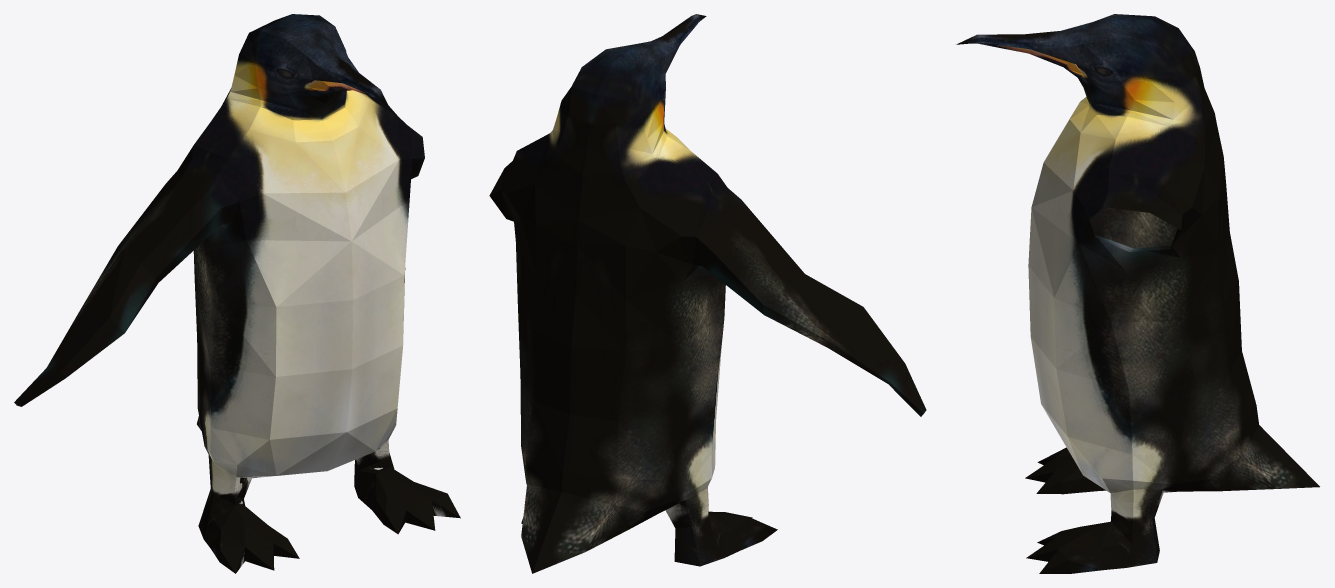
Rendered from Pingu.obj.
3 views of the same model, side by side, from view 1: azimuth 30°, elevation 25°; view 2: azimuth 150°, elevation 25°; view 3: azimuth 270°, elevation 25° (orthographic). The views are drawn at different scales.
Parts seen in each view (by area): view 1: BodyPinguino, Ala_der, Pie_der, Pie_izq; view 2: BodyPinguino, Ala_der, Pie_der; view 3: BodyPinguino, Pie_izq, Pie_der.
Part boxes in pixels (left/top/right/bottom): BodyPinguino: left=166, top=14, right=424, bottom=495; Ala_der: left=14, top=178, right=221, bottom=406; Pie_der: left=198, top=479, right=299, bottom=573; Pie_izq: left=354, top=453, right=460, bottom=534; BodyPinguino: left=489, top=14, right=740, bottom=573; Ala_der: left=702, top=199, right=926, bottom=416; Pie_der: left=674, top=511, right=777, bottom=566; BodyPinguino: left=956, top=14, right=1319, bottom=520; Pie_izq: left=1026, top=513, right=1159, bottom=573; Pie_der: left=1025, top=447, right=1105, bottom=494.
Size of the model in its own units: 1.73 by 1.97 by 1.31.
Materials: 4 (4 with a texture image).
